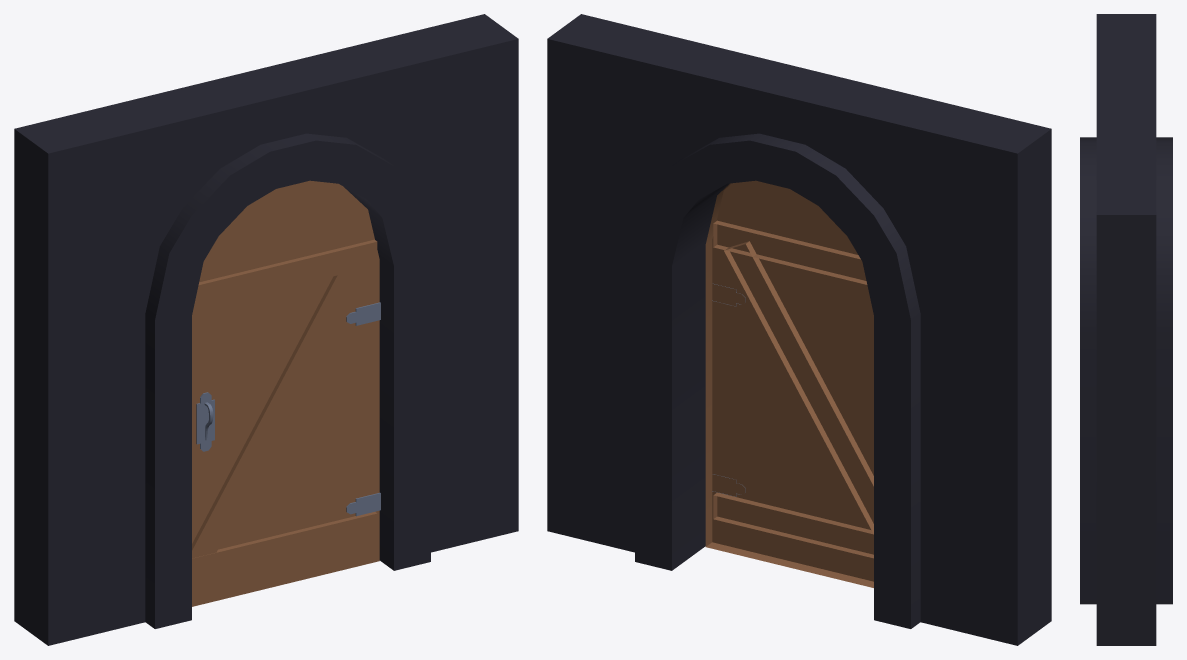
The model's file is SlumsDoor.fbx.
The picture shows the model from 3 angles, left to right: view 1: azimuth 30°, elevation 25°; view 2: azimuth 150°, elevation 25°; view 3: azimuth 270°, elevation 25°; orthographic projection. The views are drawn at different scales.
Visible parts, largest first — view 1: SlumsDoor; view 2: SlumsDoor; view 3: SlumsDoor.
Boxes of the visible parts, x1,y1,x2,y2 form: SlumsDoor: (14, 14, 518, 645); SlumsDoor: (547, 14, 1051, 645); SlumsDoor: (1080, 14, 1172, 645).
Bounding box in the file's own units: 200 × 200 × 39.07.
